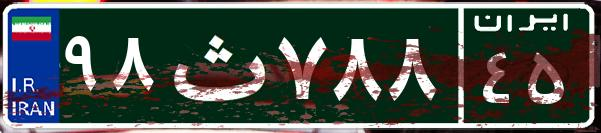4: (475, 38, 525, 113)
5: (525, 38, 570, 115)
7: (273, 28, 330, 110)
8: (385, 28, 445, 110), (330, 28, 385, 110), (110, 28, 158, 105)
9: (57, 26, 110, 107)
ث: (158, 15, 273, 115)
